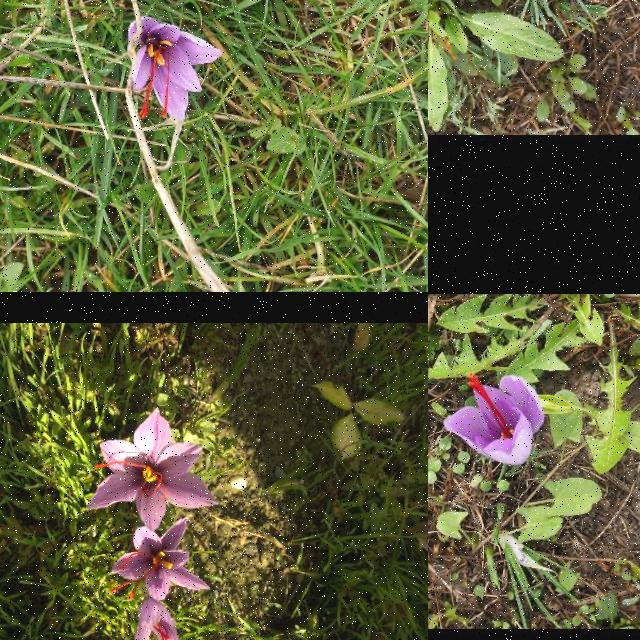flower: (88, 408, 216, 530), (130, 17, 220, 124), (444, 372, 544, 464), (109, 518, 210, 600), (132, 597, 184, 640)
